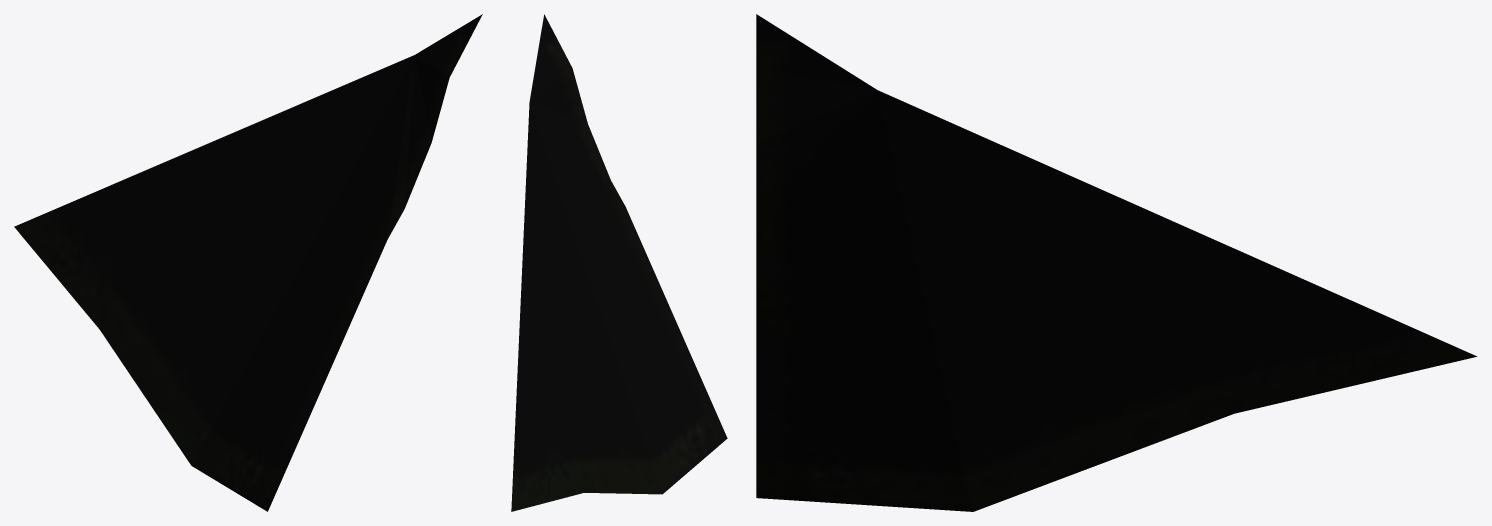
The picture shows the model from 3 angles, left to right: view 1: azimuth 30°, elevation 25°; view 2: azimuth 150°, elevation 25°; view 3: azimuth 270°, elevation 25°; orthographic projection. The views are drawn at different scales.
Bounding box in the file's own units: 2.41 × 4.86 × 4.91.
1 material, 1 textured.
